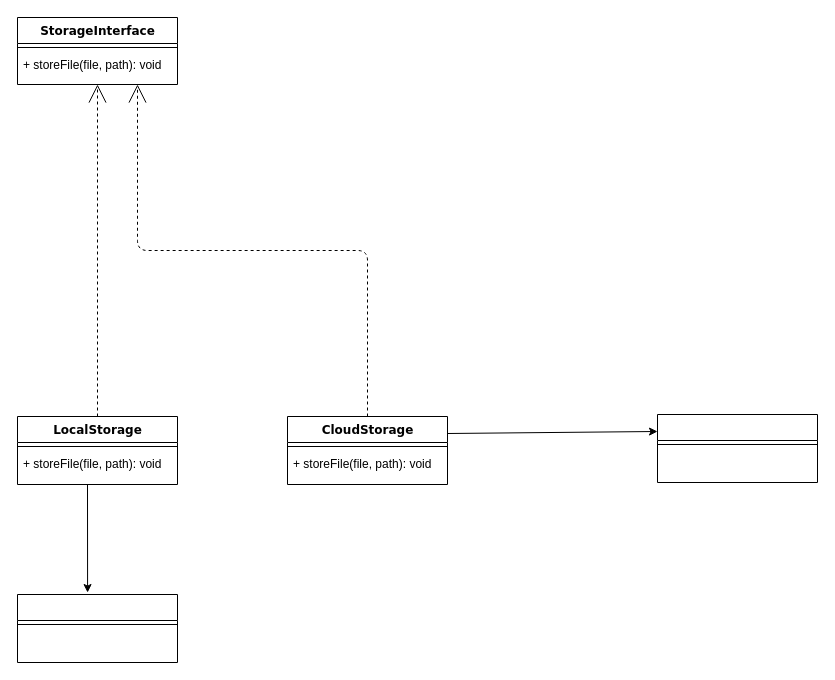
Image size: 835x680. Some labels were removed from this diagram. Here are the shapes that lost their labels. From the top down, the centre of each, then its label:
(737,448): CloudStorageApi
(97,628): LocalFileSystemAfi
